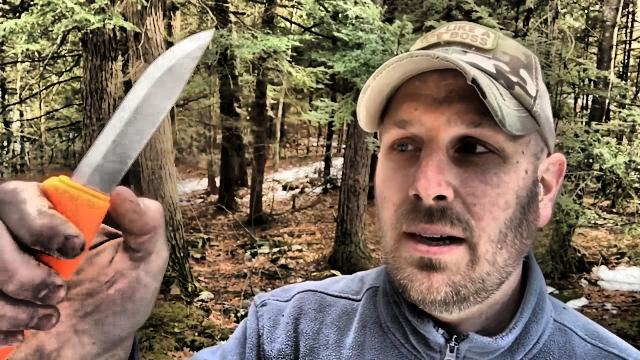knife: (0, 24, 220, 264)
